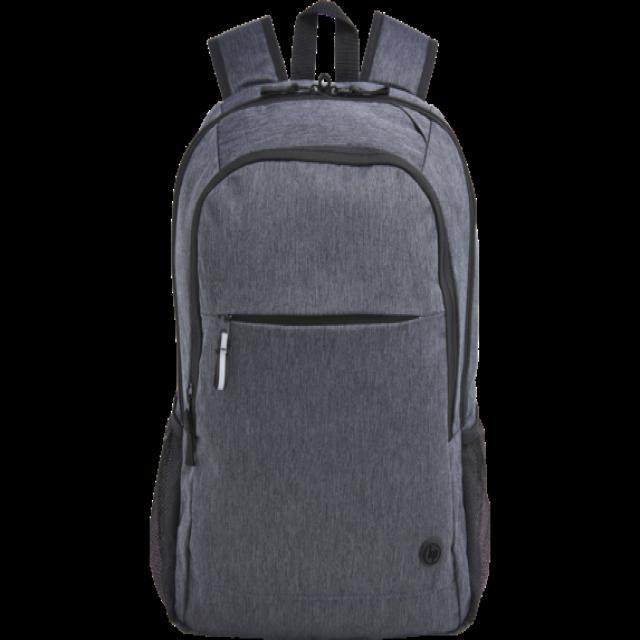Backpacks: (152, 72, 491, 640)
